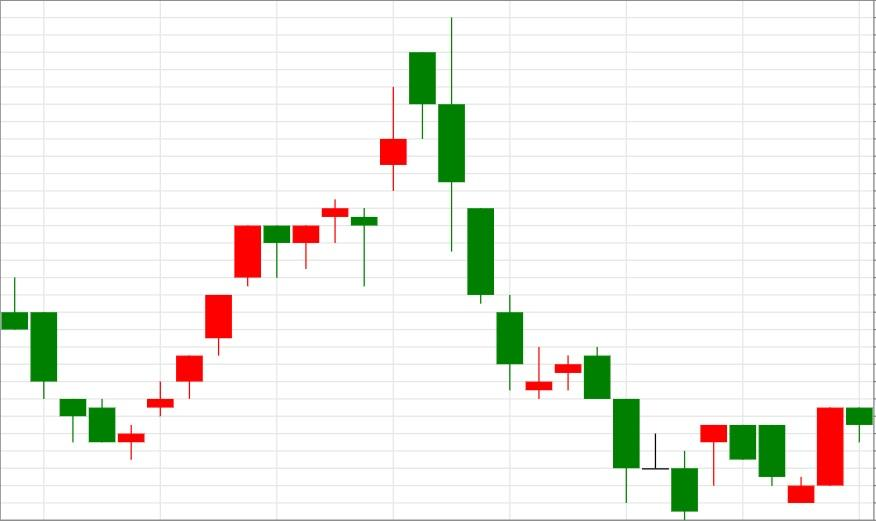three_black_crows_fall: (116, 16, 494, 460)
